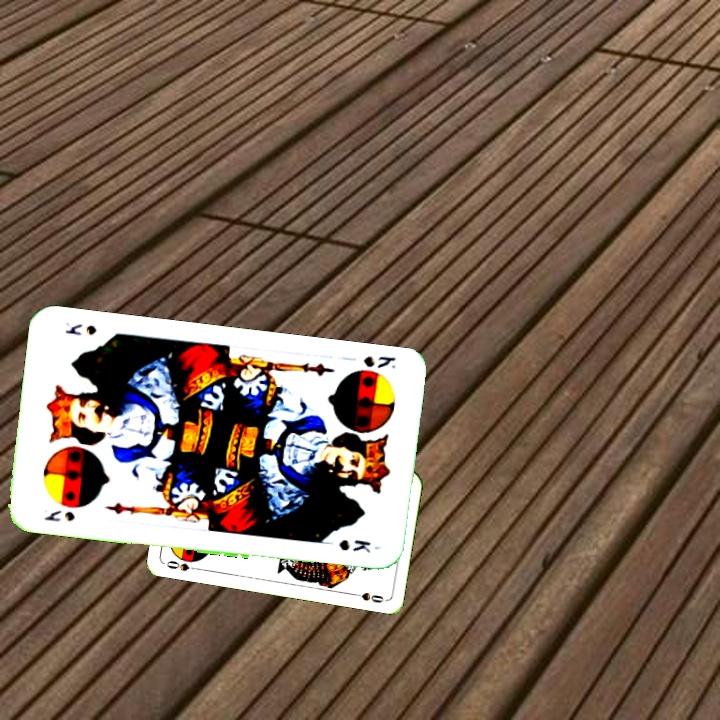SK: (342, 352, 399, 371), (40, 506, 78, 524)
SO: (162, 557, 201, 574)
